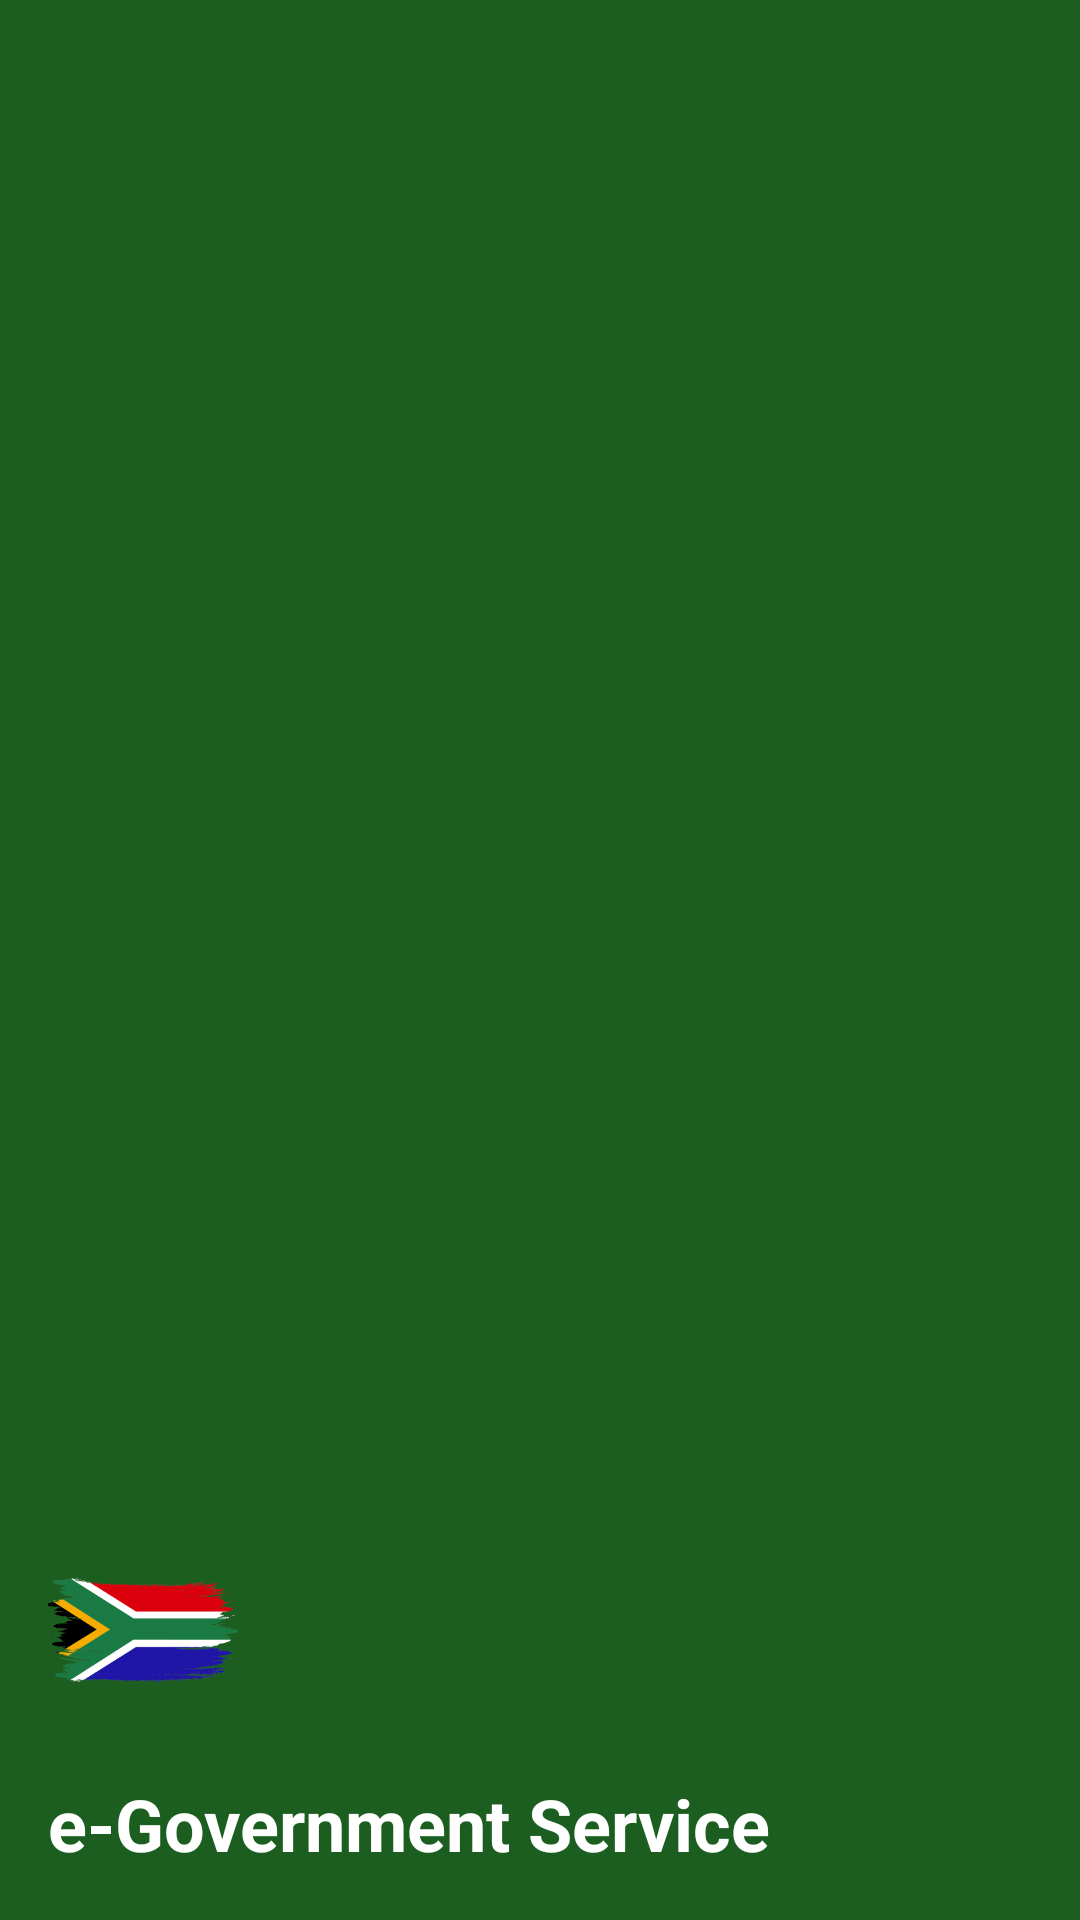

Named icons in this screenshot (1080x1920) and their centers, point (x, y):
flag: point (143, 1630)
